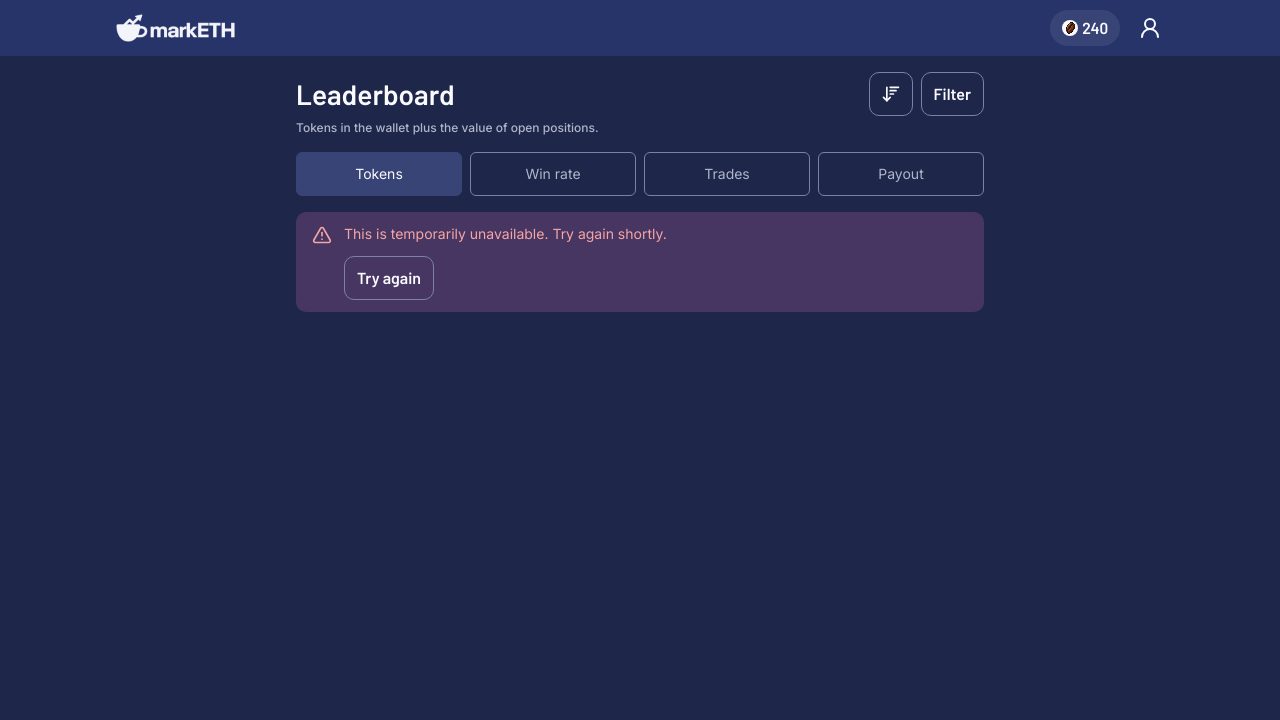
Test: the four states › error: a banner with the API's message and Try again, which asks again
Expected: the message shows "This is temporarily unavailable. Try again shortly.", [344,225,667,242]
Expected: the button "Tokens" is shown, [296,152,462,196]
Click the button "Try again".
click(389, 278)  # box [344,256,434,300]
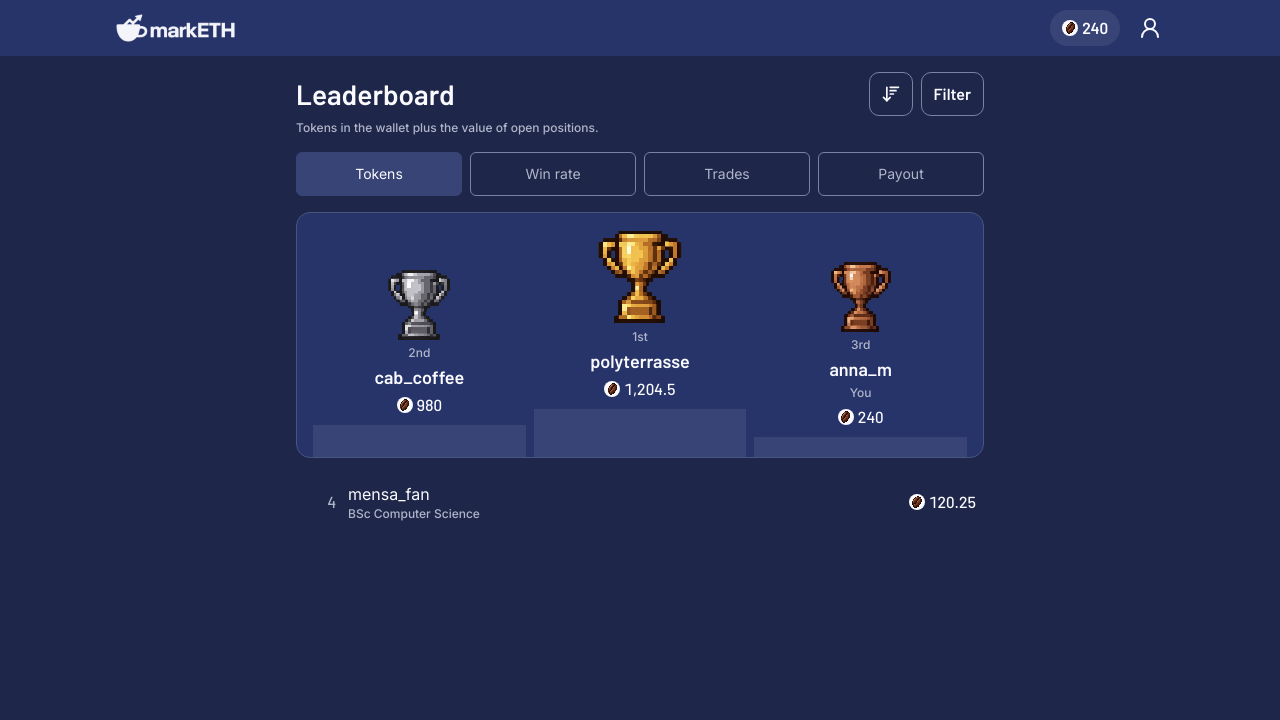
Expected: the text "polyterrasse" is shown, [590,350,690,372]
Expected: the message "This is temporarily unavailable. Try again shortly. Try again" is gone
